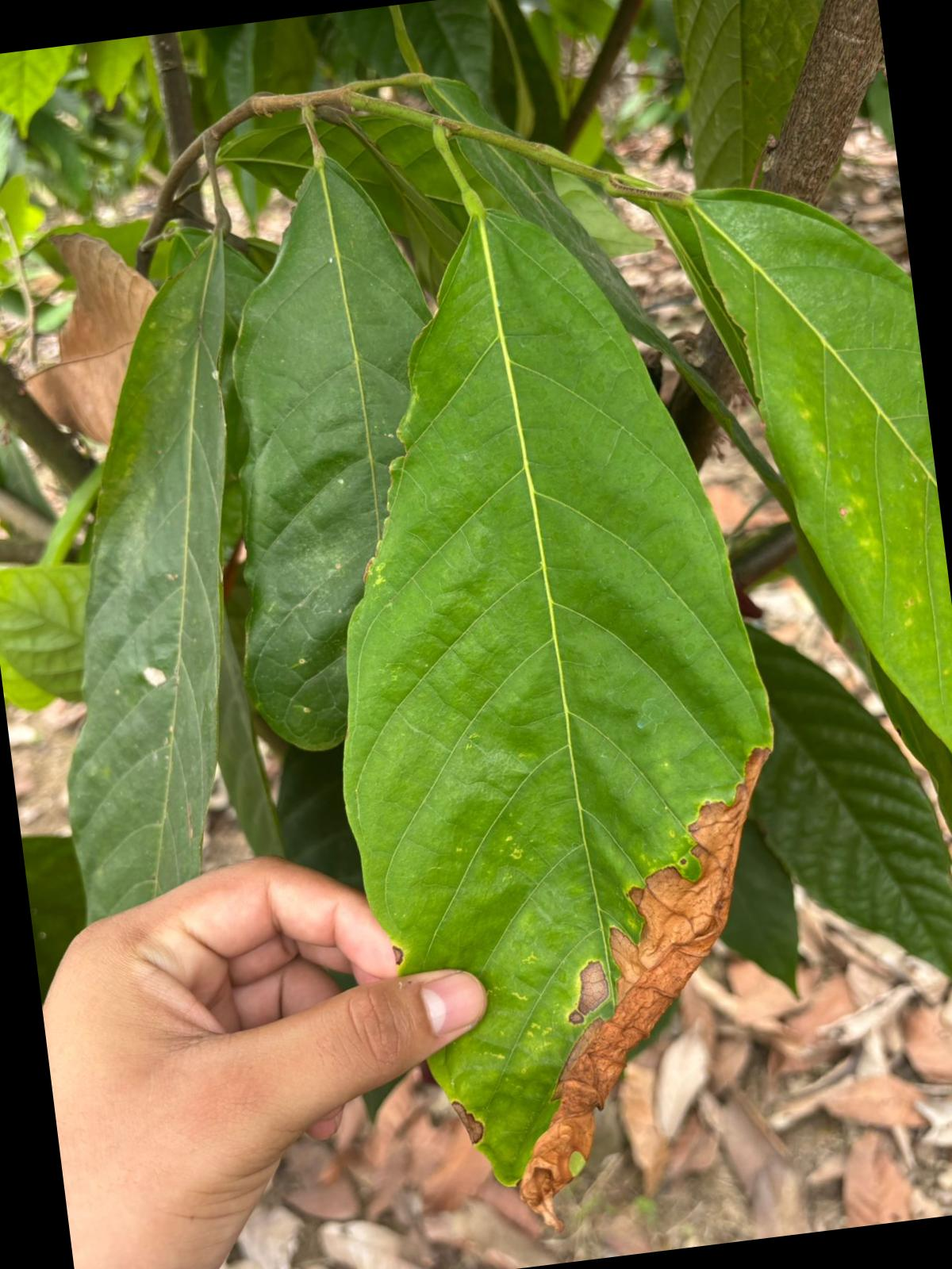Fosforo: (675, 190, 951, 753)
Potasio: (344, 177, 772, 1183)
